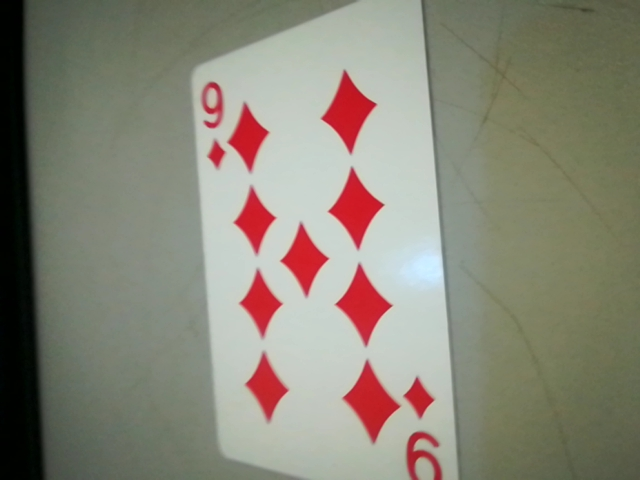fk 9: (392, 369, 456, 480)
